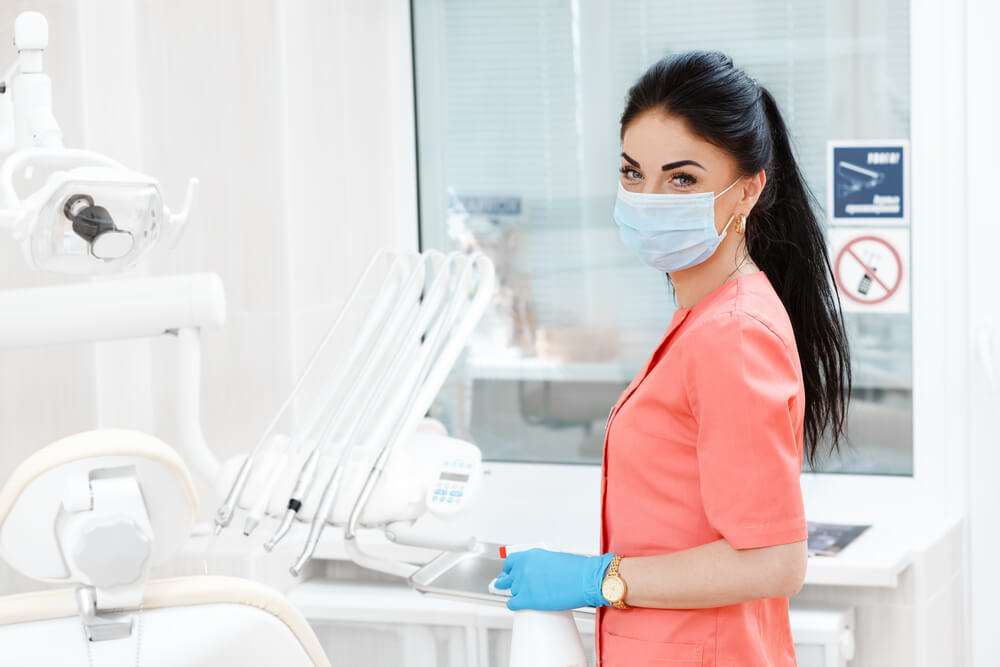mask: (612, 183, 729, 272)
